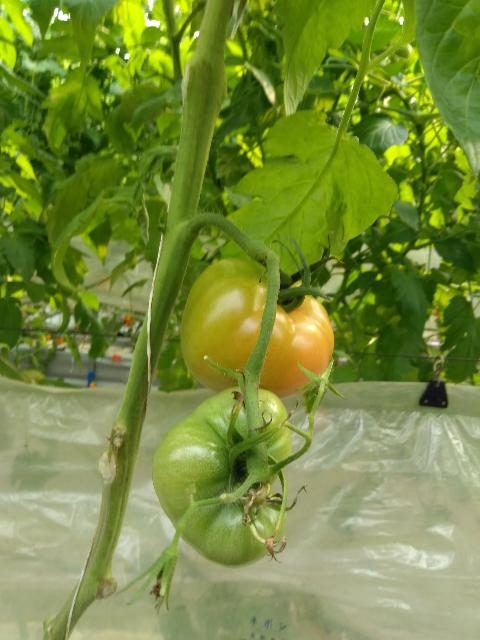b_green: (151, 386, 292, 568)
b_half_ripened: (179, 258, 334, 398)
